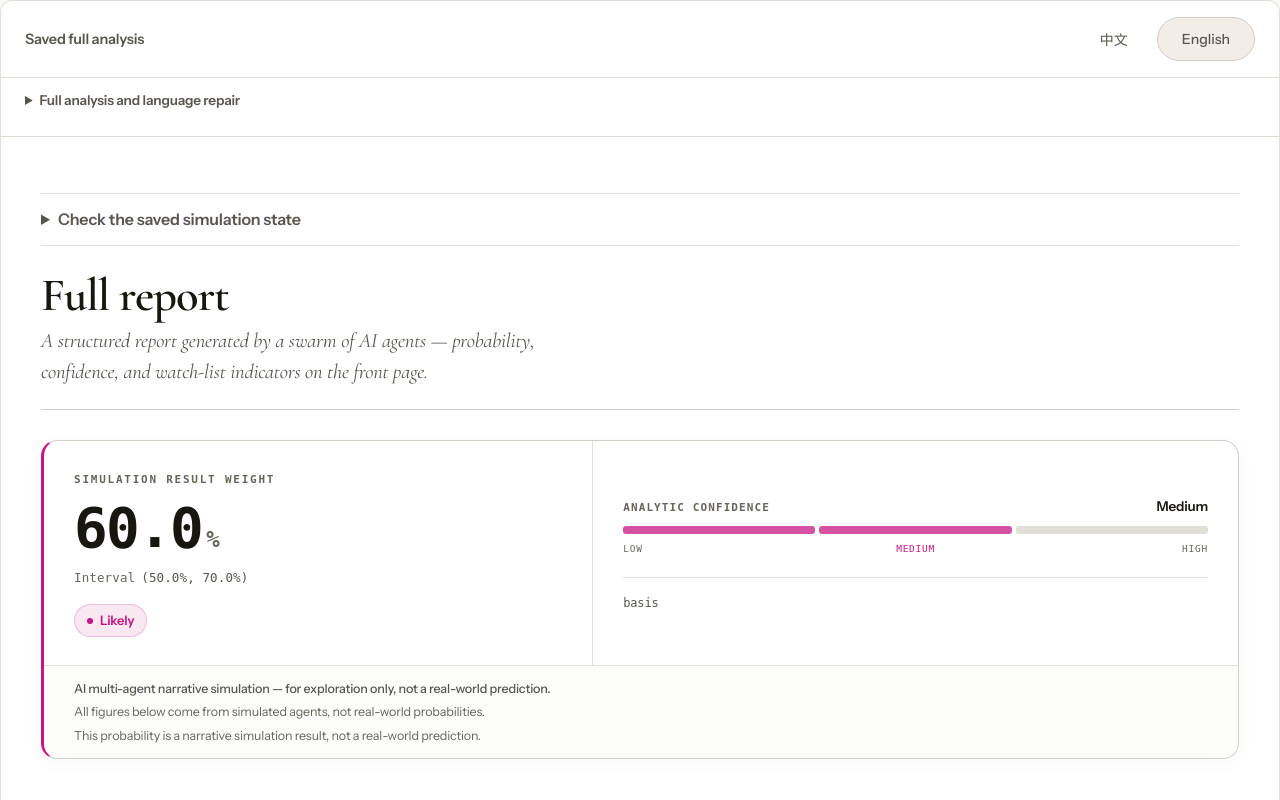
Test: report content language resolution › keeps domain state distinct from narrative and preserves canonical numeric units
The width and height of the screenshot is (1280, 800).
Click the heading "Check the saved simulation state": x=179, y=218 top-left (58, 208), bottom-right (301, 228)
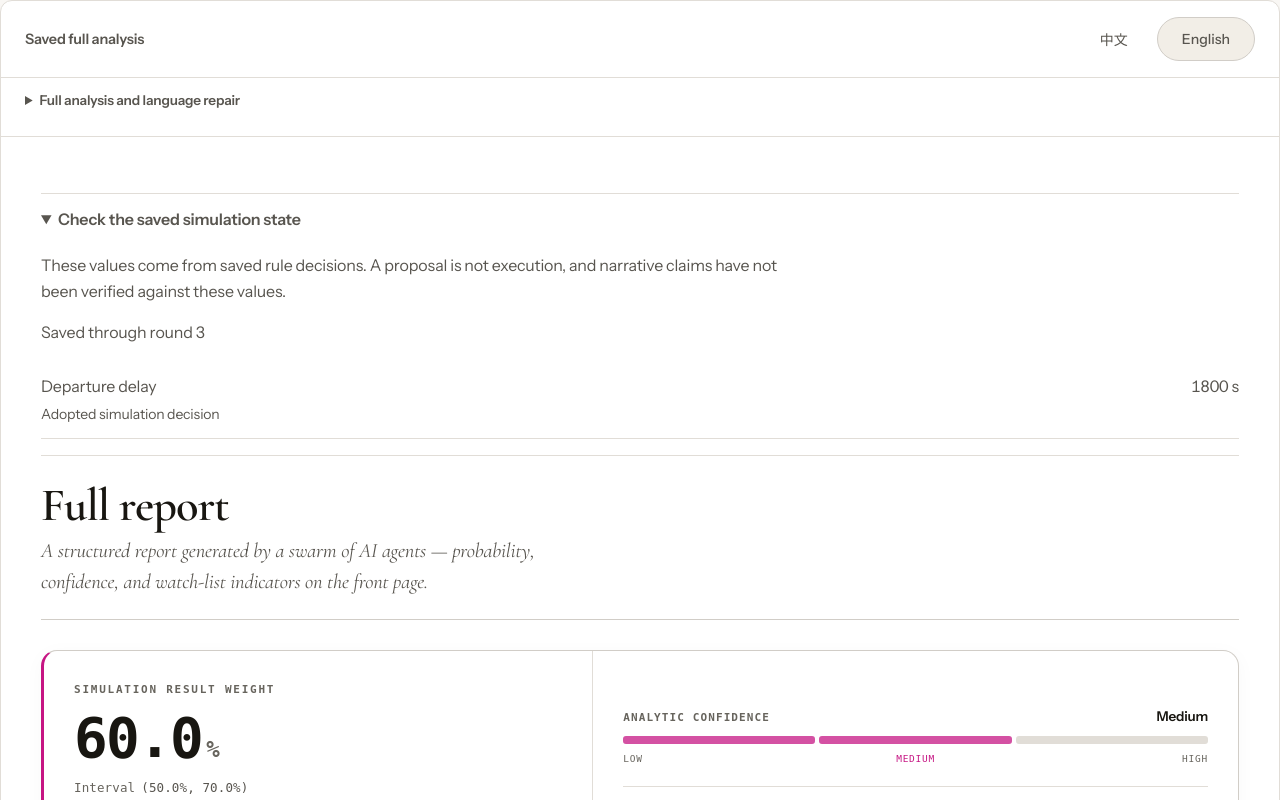
Expected: the text "Departure delay" is shown, top-left (41, 376), bottom-right (156, 396)
Expected: the text "1800 s" is shown, top-left (1191, 376), bottom-right (1239, 396)
Expected: the text "Adopted simulation decision" is shown, top-left (41, 405), bottom-right (220, 423)
